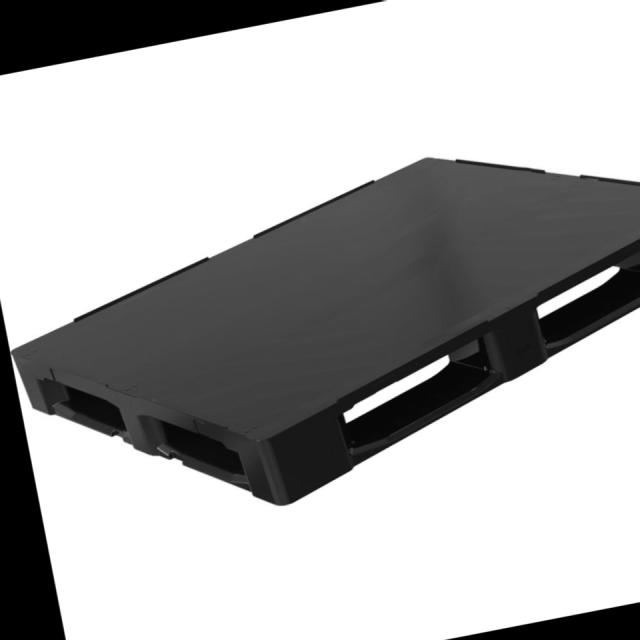non-igps: (7, 152, 640, 511)
